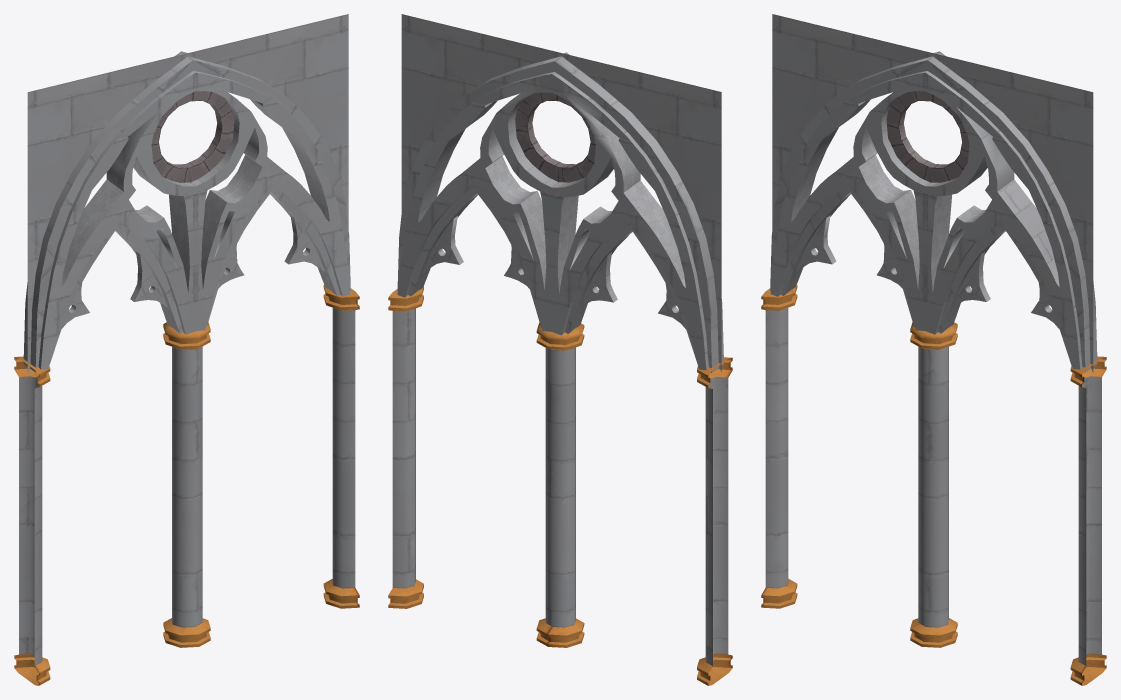
Rendered from SM_WallArch4x7.fbx.
The picture shows the model from 3 angles, left to right: view 1: azimuth 30°, elevation 25°; view 2: azimuth 150°, elevation 25°; view 3: azimuth 330°, elevation 25°; orthographic projection.
Parts seen in each view (by area): view 1: SM_WallArch4x7; view 2: SM_WallArch4x7; view 3: SM_WallArch4x7.
Boxes of the visible parts, bbox=[...] form: SM_WallArch4x7: bbox=[14, 14, 359, 685]; SM_WallArch4x7: bbox=[388, 14, 732, 685]; SM_WallArch4x7: bbox=[761, 14, 1106, 685].
Size of the model in its own units: 4 by 7 by 0.5309.
